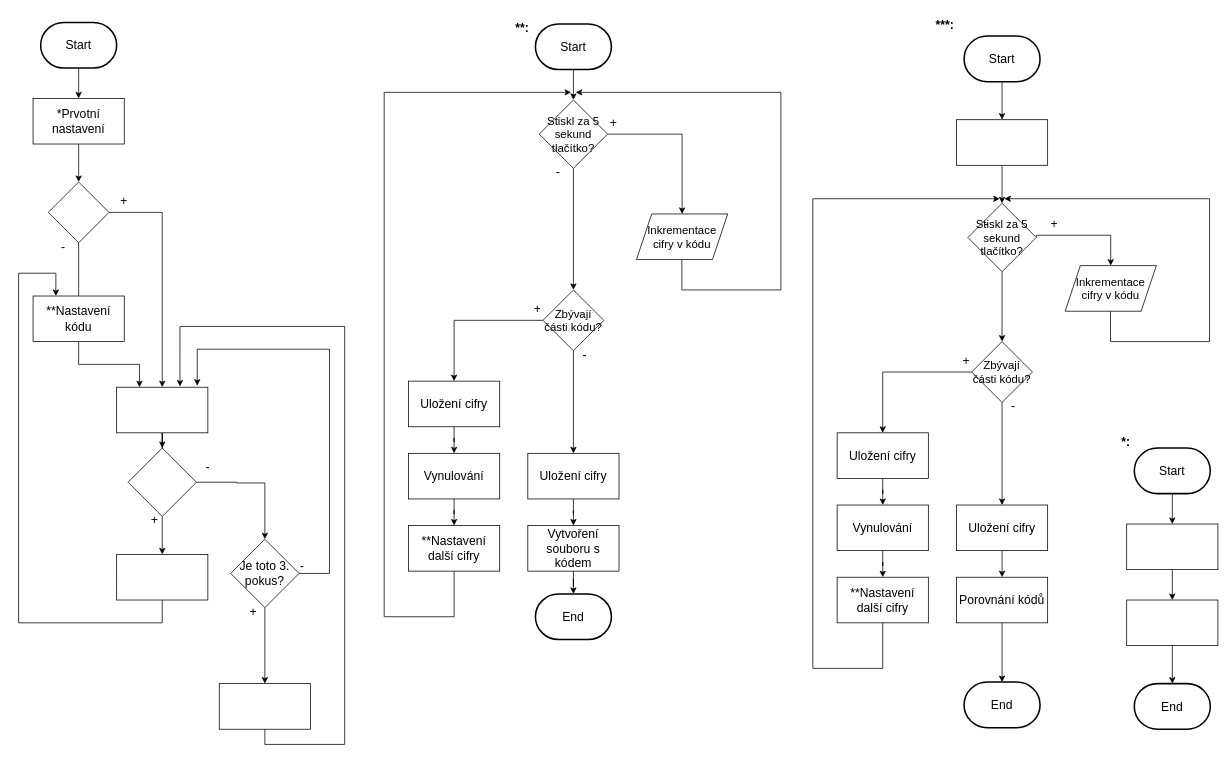
Image size: 1231x764. Some labels were removed from this diagram. The box of each missing label's shape, as (x1, y1, x2, y2) in pixels:
***Hádání kódu: (116, 386, 208, 433)
Alarm: (218, 683, 310, 729)
Existuje kód?: (48, 181, 109, 243)
Je kód správný?: (127, 447, 196, 516)
Odemknutí: (116, 554, 208, 600)
Vytvoření ovladačů IO karty: (1126, 599, 1218, 646)
Získání informací o IO kartě: (1126, 523, 1218, 570)
Čtení souboru s kódem: (956, 119, 1048, 165)
